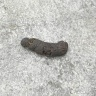Dog: (20, 37, 69, 58)
